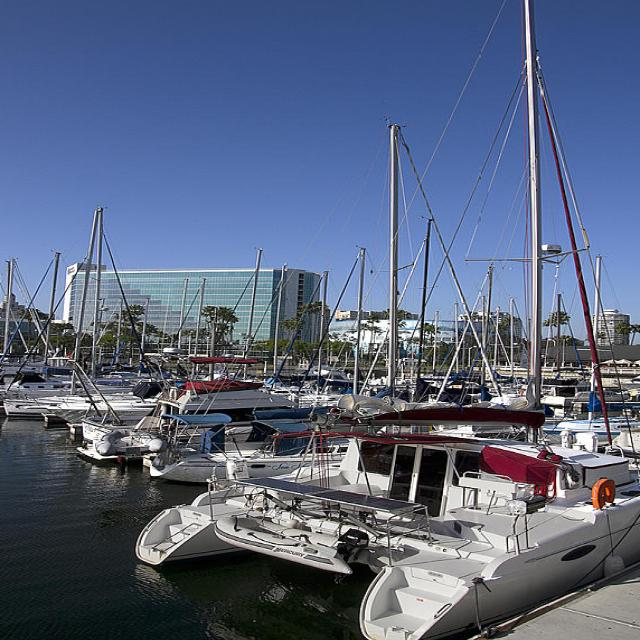houseboat: (207, 406, 640, 569)
